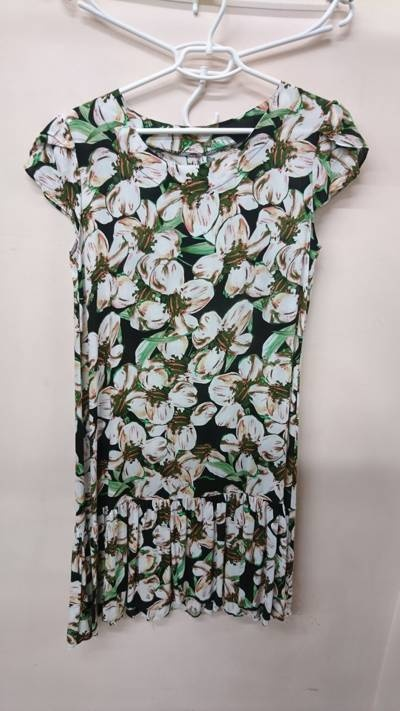Dress: (23, 52, 363, 666)
